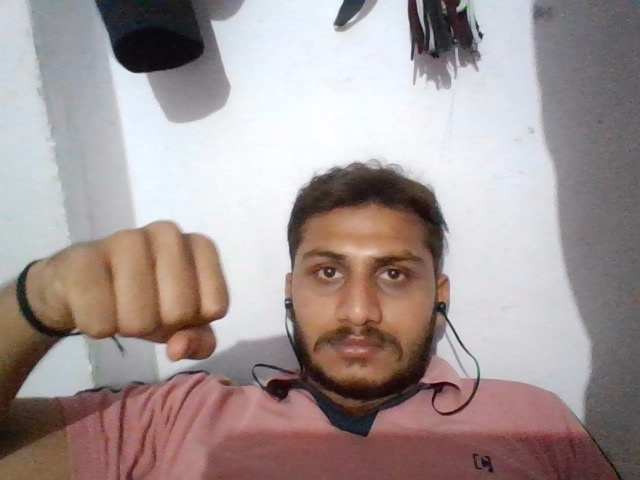Yes: (42, 197, 244, 361)
